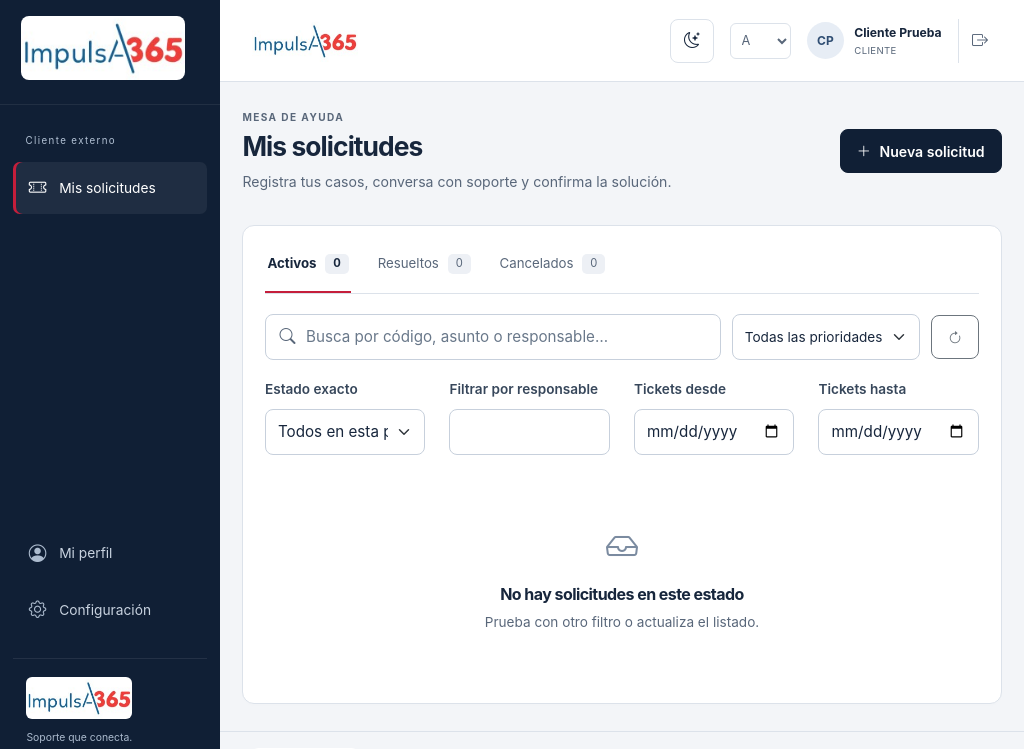
Migración React › conserva el formulario cuando la API rechaza la creación y permite reintentar
The image size is (1024, 749).
Check: the heading "No hay solicitudes en este estado" is shown, box [500,584,744,604]
Click the button "Nueva solicitud" at [921, 151], box [840,129,1002,173]
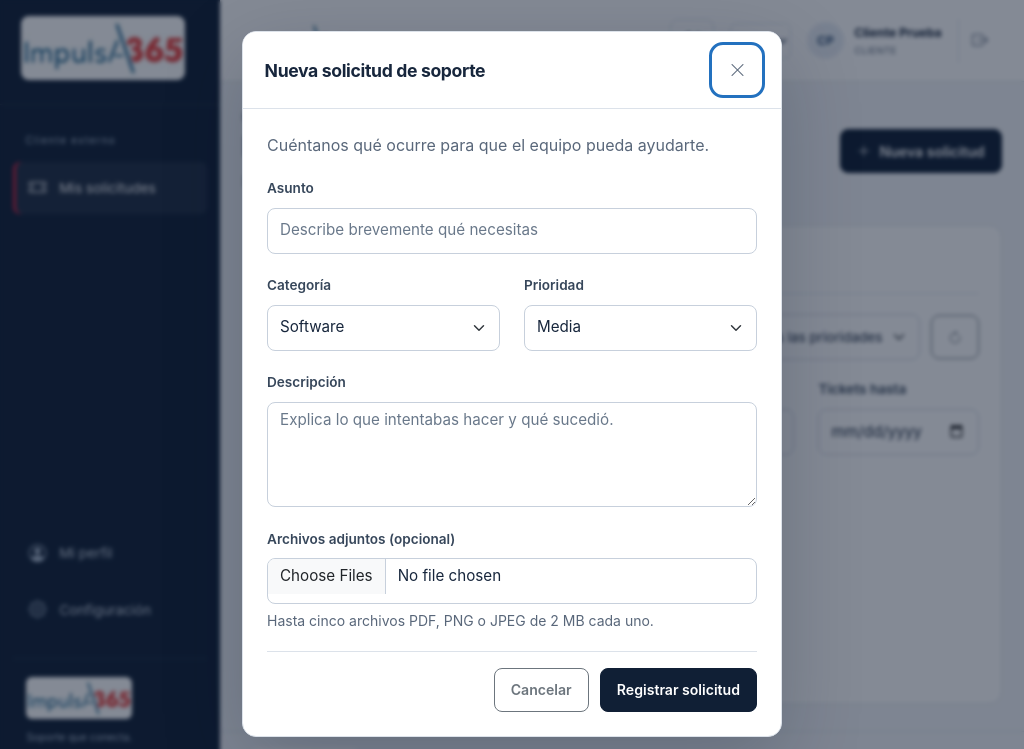
Type "Error de red" into the field labelled "Asunto" at [512, 231], box [267,208,757,254]
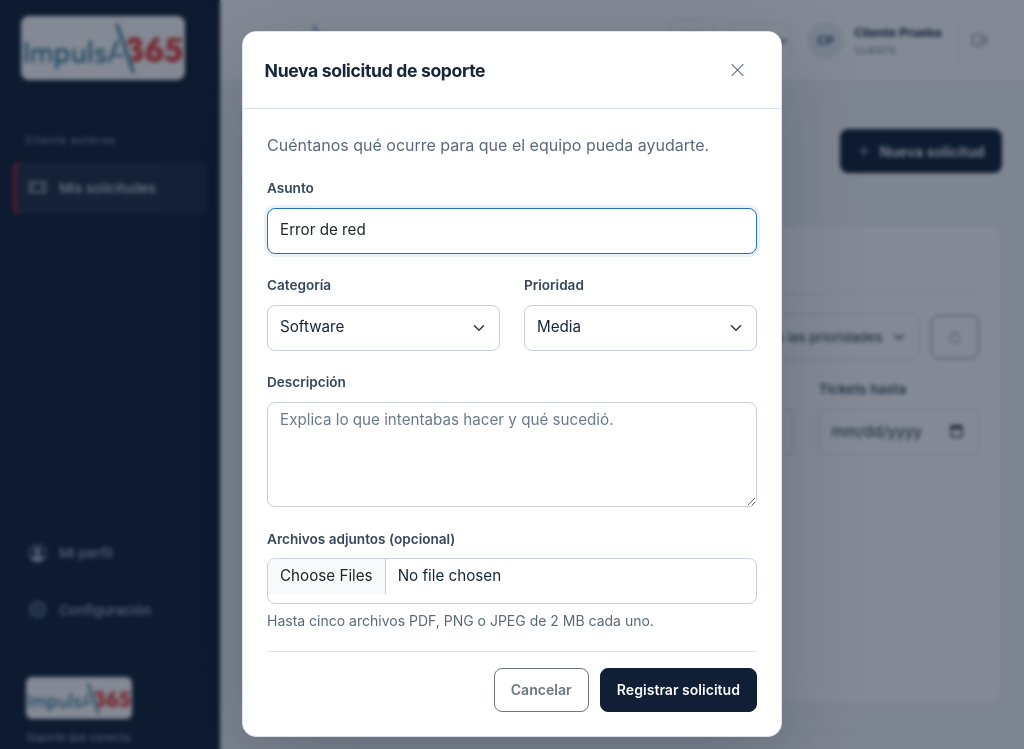
Type "Necesito ayuda con el acceso." into the text box labelled "Descripción" at [512, 455], box [267,402,757,507]
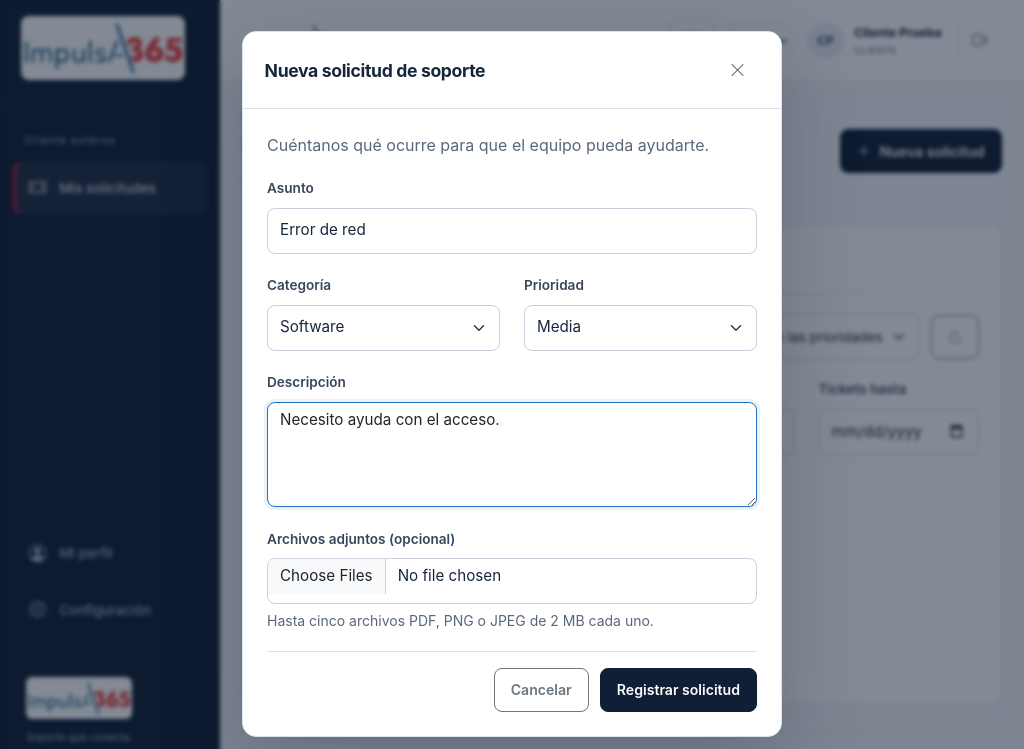
Click the button "Registrar solicitud" at [678, 690], box [600,668,757,712]
(page scrolled)
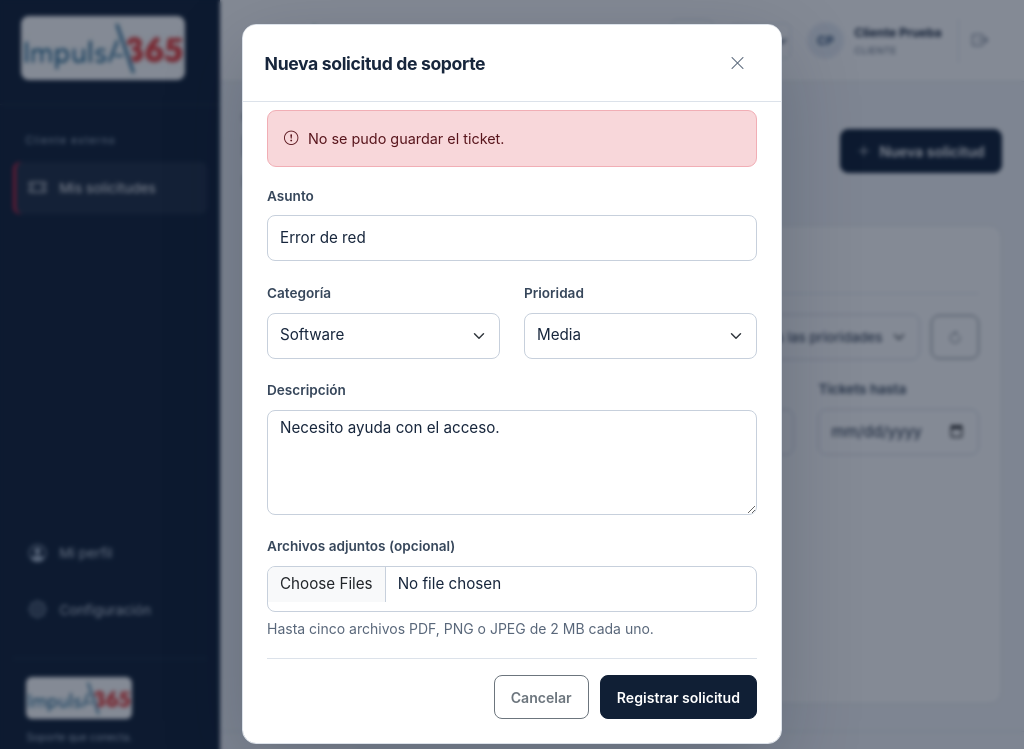
Check: the dialog is shown, box [242,24,782,744]
Check: the message reads "No se pudo guardar el ticket.", box [308,130,504,147]
Click the button "Registrar solicitud" at [678, 697], box [600,675,757,719]
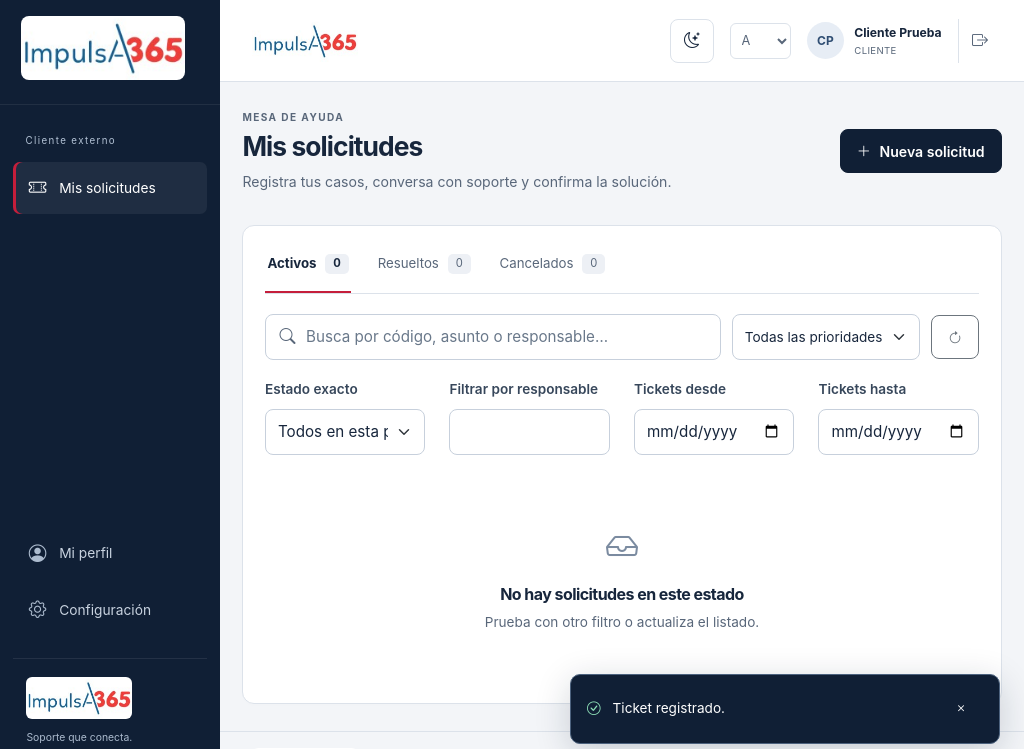
Check: the dialog is gone
